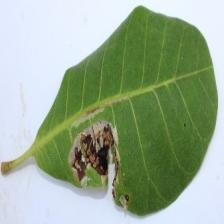leaf miner: (0, 4, 218, 217), (68, 118, 118, 188)
